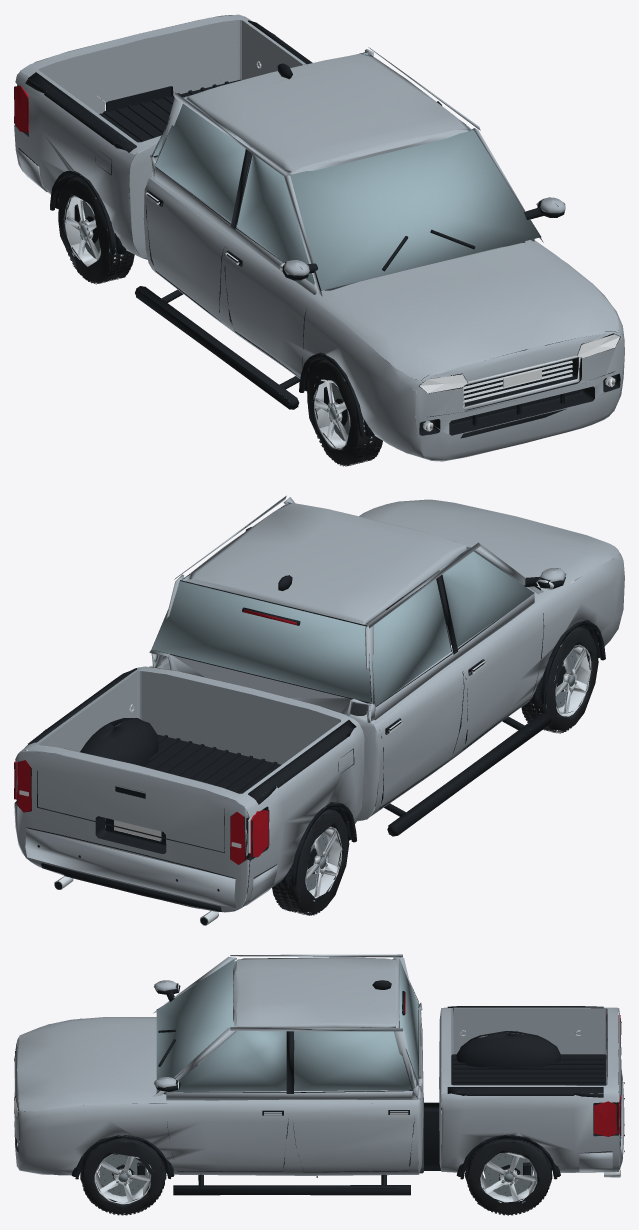
File: CrewCabPickupWithOpenBed.fbx
3 views of the same model, one above another, from view 1: azimuth 30°, elevation 25°; view 2: azimuth 150°, elevation 25°; view 3: azimuth 270°, elevation 25° (orthographic). The views are drawn at different scales.
Parts seen in each view (by area): view 1: CrewCabPickupWithOpenBed, wheel4, wheel2; view 2: CrewCabPickupWithOpenBed, wheel4, wheel2; view 3: CrewCabPickupWithOpenBed, wheel3, wheel1.
Boxes of the visible parts, box(x1,y1,x2,y2) form: CrewCabPickupWithOpenBed: box(14, 14, 624, 466); wheel4: box(58, 177, 134, 283); wheel2: box(307, 359, 382, 465); CrewCabPickupWithOpenBed: box(14, 495, 624, 925); wheel4: box(272, 809, 349, 915); wheel2: box(521, 627, 598, 732); CrewCabPickupWithOpenBed: box(14, 954, 624, 1215); wheel3: box(465, 1139, 552, 1214); wheel1: box(80, 1138, 166, 1214).
Size of the model in its own units: 233 by 198 by 569.
Materials: 10 (10 with a texture image).
